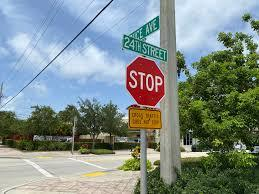Pole: (139, 130, 147, 193), (72, 128, 74, 155)
Sign: (126, 58, 166, 107)
